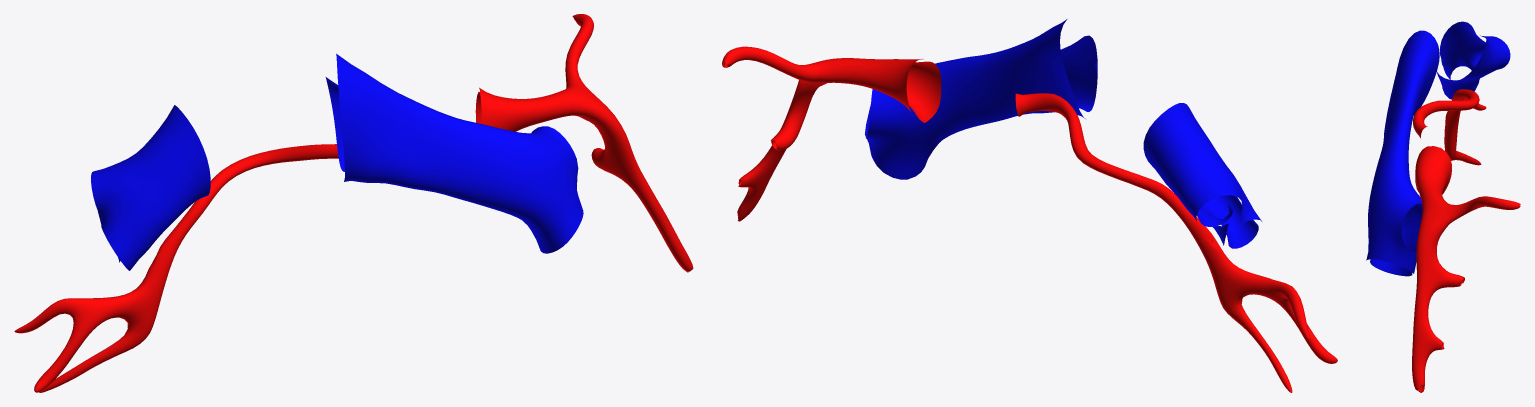
The model's file is VH_F_Blood_Vasculature_Kidney.glb.
3 renders of one model, left to right at view 1: azimuth 30°, elevation 25°; view 2: azimuth 150°, elevation 25°; view 3: azimuth 270°, elevation 25°, orthographic. The views are drawn at different scales.
Parts seen in each view (by area): view 1: VH_F_left_renal_vein, VH_F_right_renal_vein, VH_F_right_renal_artery, VH_F_left_renal_artery; view 2: VH_F_left_renal_vein, VH_F_left_renal_artery, VH_F_right_renal_artery, VH_F_right_renal_vein; view 3: VH_F_left_renal_vein, VH_F_left_renal_artery, VH_F_right_renal_vein, VH_F_right_renal_artery.
Part boxes in pixels (x1=…): VH_F_left_renal_vein: x1=325, y1=53, x2=583, y2=253; VH_F_right_renal_vein: x1=91, y1=105, x2=210, y2=270; VH_F_right_renal_artery: x1=14, y1=144, x2=338, y2=392; VH_F_left_renal_artery: x1=475, y1=14, x2=693, y2=272; VH_F_left_renal_vein: x1=865, y1=19, x2=1097, y2=179; VH_F_left_renal_artery: x1=722, y1=46, x2=941, y2=221; VH_F_right_renal_artery: x1=1015, y1=93, x2=1337, y2=392; VH_F_right_renal_vein: x1=1143, y1=103, x2=1261, y2=248; VH_F_left_renal_vein: x1=1366, y1=30, x2=1439, y2=276; VH_F_left_renal_artery: x1=1412, y1=146, x2=1520, y2=392; VH_F_right_renal_vein: x1=1436, y1=21, x2=1510, y2=100; VH_F_right_renal_artery: x1=1413, y1=89, x2=1486, y2=165.
Size of the model in its own units: 0.1334 by 0.0601 by 0.0364.
